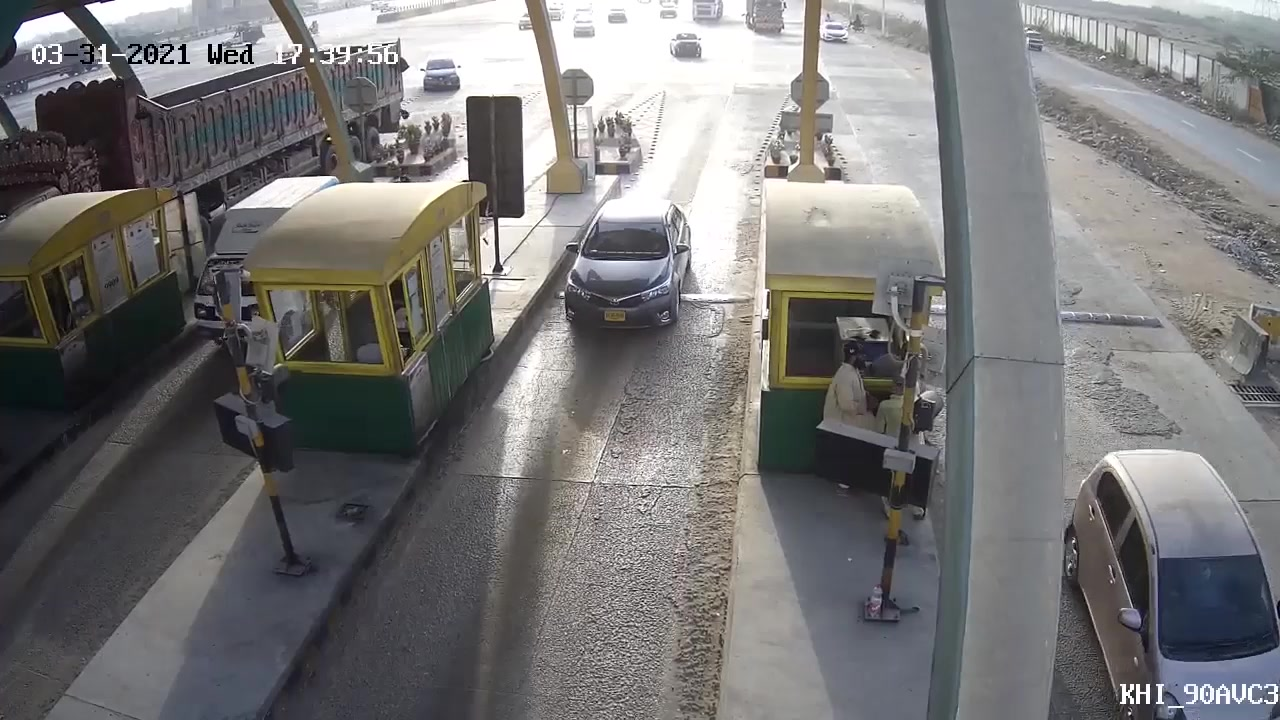F1: (557, 199, 703, 326)
